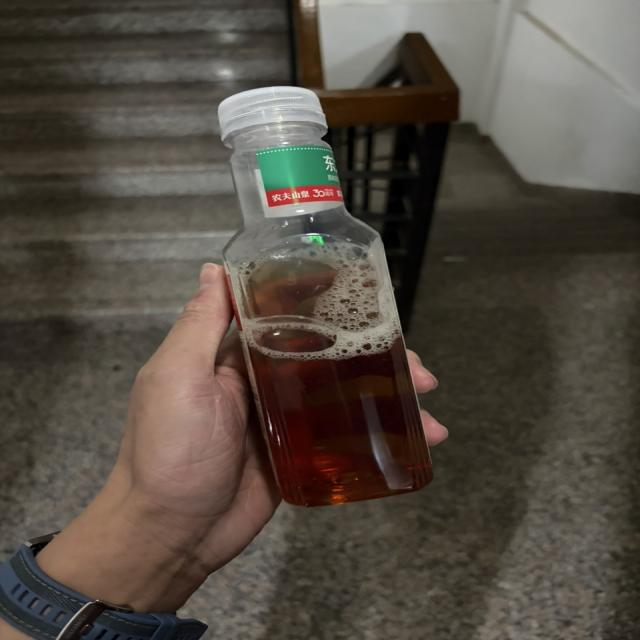medium: (220, 87, 432, 506)
